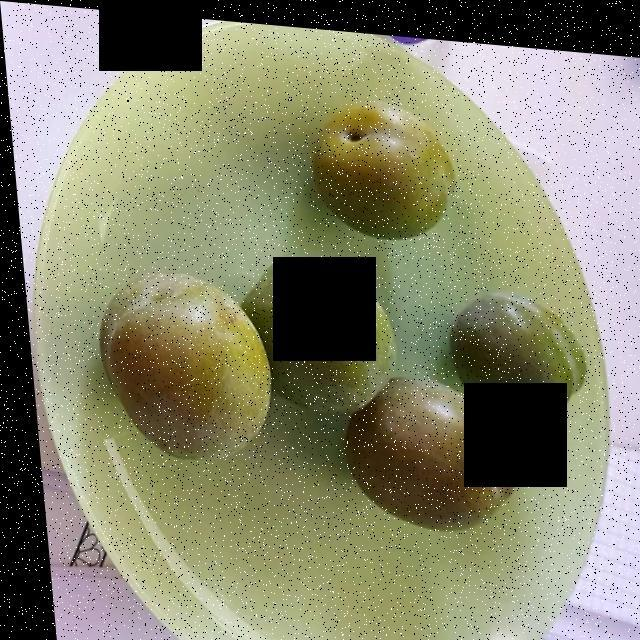plums: (100, 98, 575, 518)
